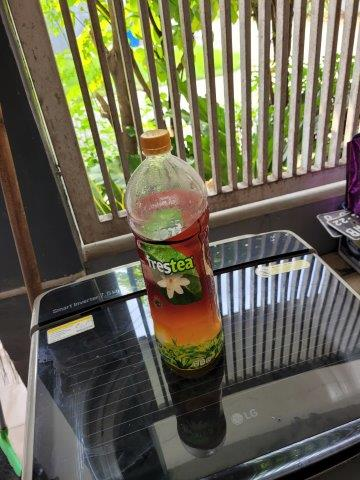botolplastik: (126, 126, 223, 370)
